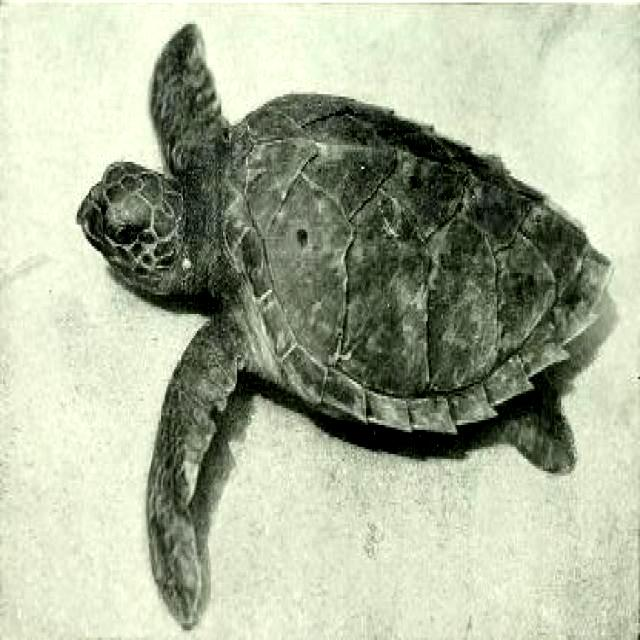Sea turtle: (65, 18, 619, 624)
